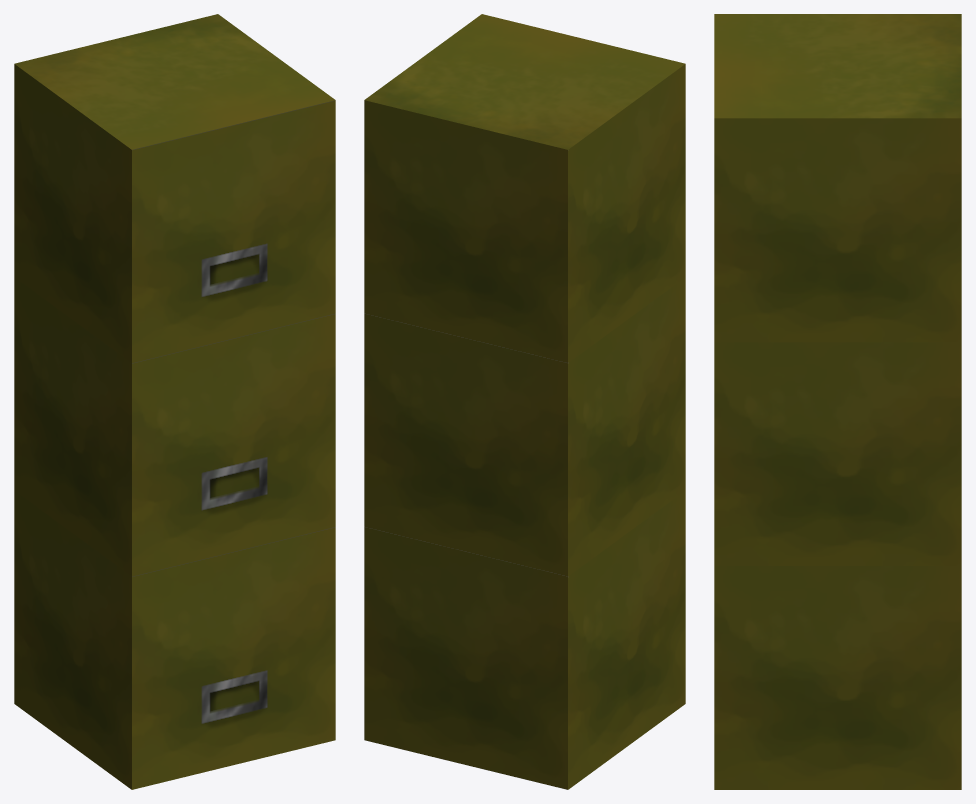
The model's file is GreenFilingCabinet.glb.
The picture shows the model from 3 angles, left to right: view 1: azimuth 30°, elevation 25°; view 2: azimuth 150°, elevation 25°; view 3: azimuth 270°, elevation 25°; orthographic projection. The views are drawn at different scales.
Parts seen in each view (by area): view 1: cabinet; view 2: cabinet; view 3: cabinet.
Part boxes in pixels (x1,y1,x2,y2): cabinet: (14,14,335,789); cabinet: (364,14,685,789); cabinet: (714,14,961,789).
Bounding box in the file's own units: 0.6 × 1.8 × 0.6.
Materials: 1 (1 with a texture image).
